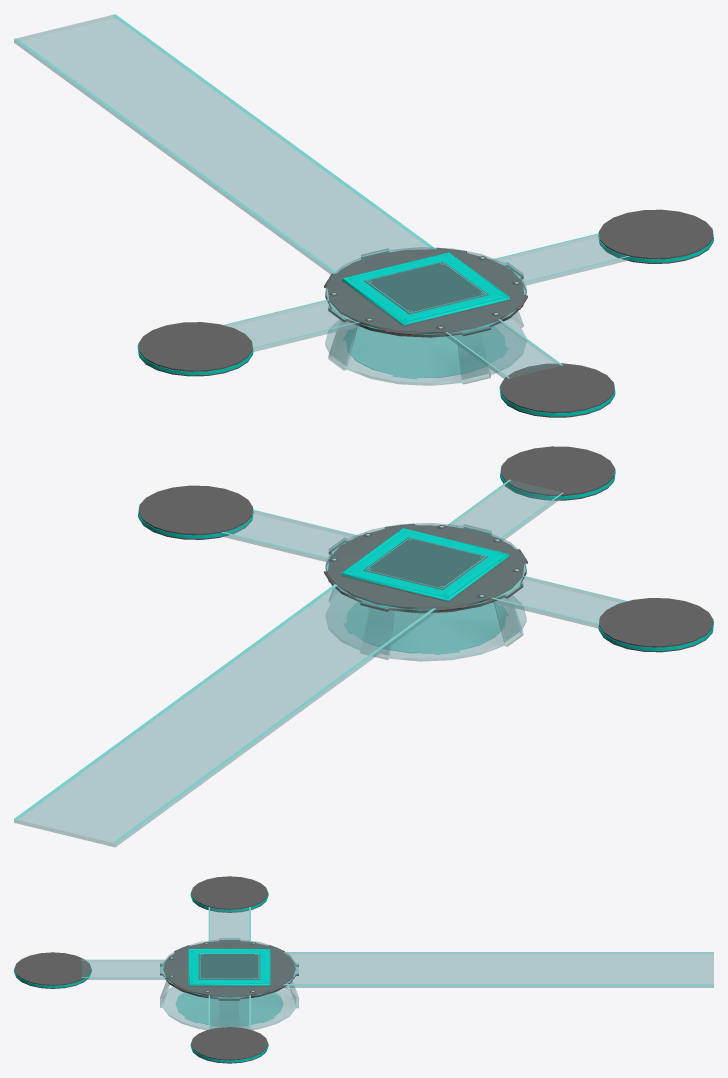
File: MAINMENU.fbx
3 renders of one model, top to bottom at view 1: azimuth 30°, elevation 25°; view 2: azimuth 150°, elevation 25°; view 3: azimuth 270°, elevation 25°, orthographic. The views are drawn at different scales.
Parts seen in each view (by area): view 1: pCube10, pCylinder5, pCylinder1, pCylinder2, pCylinder6, pCube6, pCylinder11, pCylinder9, pCylinder7, pCube5, pCube9, pCube7 (+3 smaller); view 2: pCube10, pCylinder5, pCylinder1, pCylinder2, pCylinder6, pCube6, pCylinder9, pCylinder7, pCylinder11, pCube5, pCube9, pCube7 (+3 smaller); view 3: pCube10, pCylinder5, pCylinder1, pCylinder2, pCylinder6, pCube6, pCylinder7, pCylinder11, pCylinder9, pCube9, pCube5, pCube3 (+3 smaller).
Boxes of the visible parts, <box> form: pCube10: <box>14,14,435,274</box>; pCylinder5: <box>325,311,526,385</box>; pCylinder1: <box>325,247,526,334</box>; pCylinder2: <box>324,247,527,335</box>; pCylinder6: <box>343,324,508,379</box>; pCube6: <box>345,255,508,323</box>; pCylinder11: <box>500,363,614,417</box>; pCylinder9: <box>138,322,252,376</box>; pCylinder7: <box>599,209,713,263</box>; pCube5: <box>364,261,488,314</box>; pCube9: <box>445,319,562,378</box>; pCube7: <box>492,233,629,285</box>; pCube10: <box>14,584,436,847</box>; pCylinder5: <box>326,588,526,661</box>; pCylinder1: <box>325,522,526,610</box>; pCylinder2: <box>324,523,527,611</box>; pCylinder6: <box>343,600,508,654</box>; pCube6: <box>343,530,507,598</box>; pCylinder9: <box>599,598,713,652</box>; pCylinder7: <box>138,485,252,539</box>; pCylinder11: <box>500,446,614,500</box>; pCube5: <box>363,537,488,590</box>; pCube9: <box>447,479,563,540</box>; pCube7: <box>221,509,359,561</box>; pCube10: <box>283,952,713,987</box>; pCylinder5: <box>160,981,298,1029</box>; pCylinder1: <box>160,938,298,998</box>; pCylinder2: <box>163,940,295,997</box>; pCylinder6: <box>175,992,283,1026</box>; pCube6: <box>191,950,267,982</box>; pCylinder7: <box>191,1027,268,1063</box>; pCylinder11: <box>14,952,91,988</box>; pCylinder9: <box>191,876,268,912</box>; pCube9: <box>81,959,166,979</box>; pCube5: <box>198,953,260,979</box>; pCube3: <box>188,949,270,985</box>.
Bounding box in the file's own units: 52.24 × 5.09 × 84.18.
